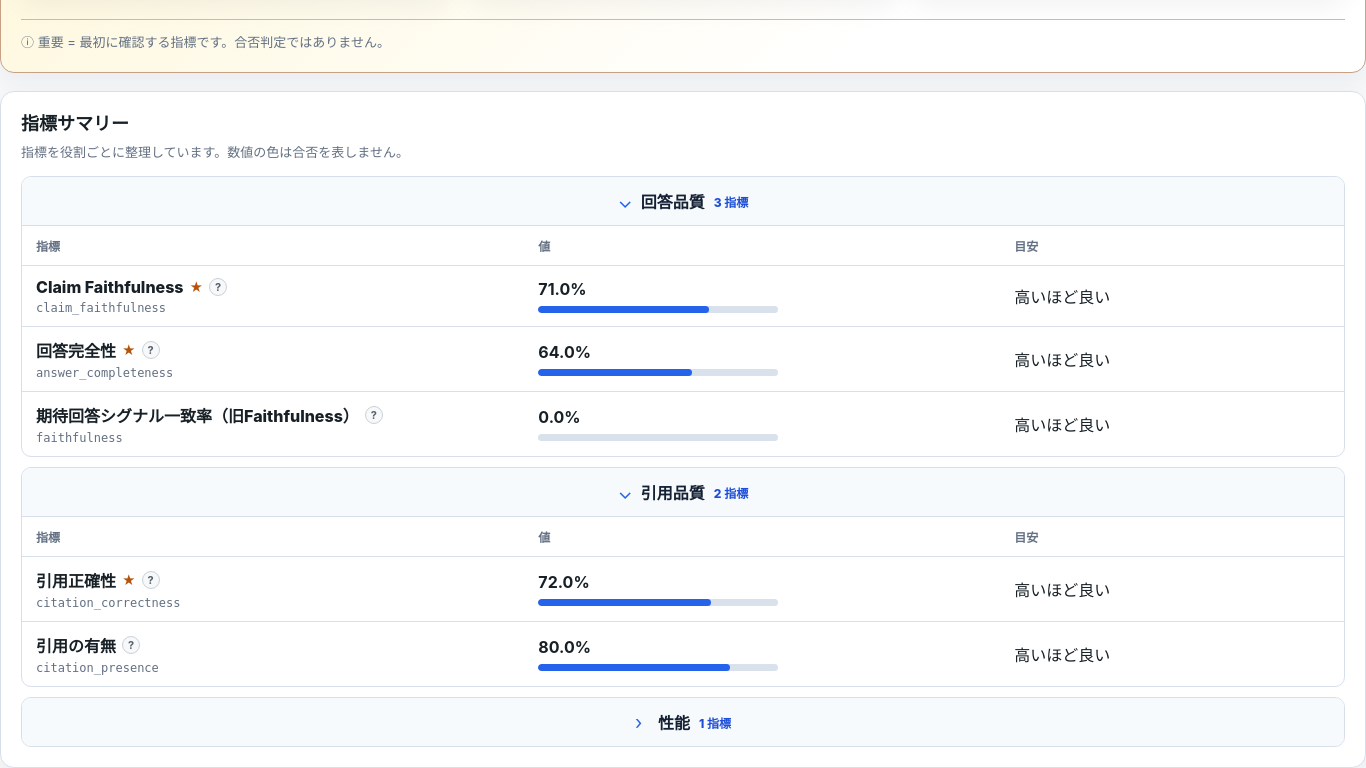
Test case: EvaluationMetricOverview › shows non-technical primary cards and grouped metric details
(page scrolled)
expect the text "ⓘ 重要 = 最初に確認する指標です。合否判定ではありません。" is shown: met, box [21,19,1345,52]
Click the button "› 性能 1 指標".
click(683, 722)  # box [22,698,1344,746]
(page scrolled)
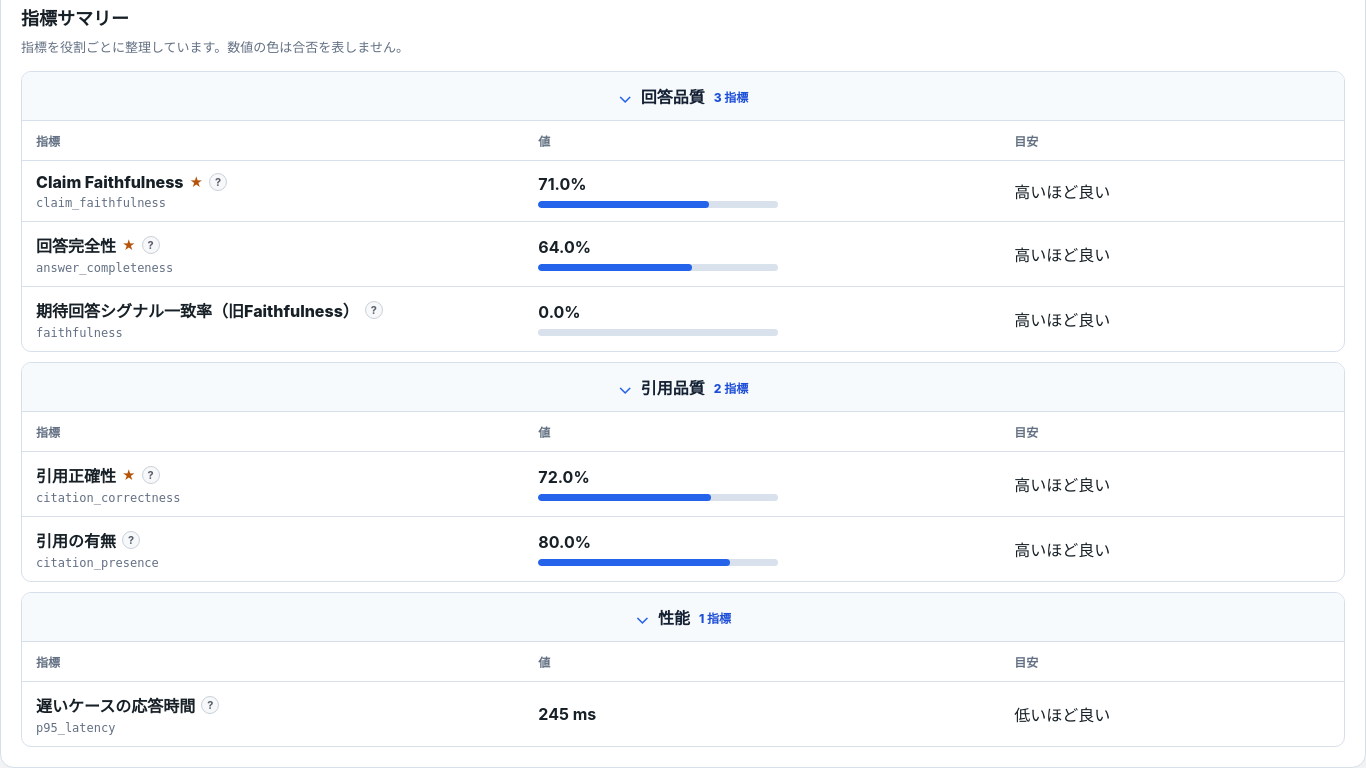
expect the button "⌄ 性能 1 指標" is expanded: met, box [22,594,1344,642]
expect the text "245 ms" is shown: met, box [538,704,596,724]
